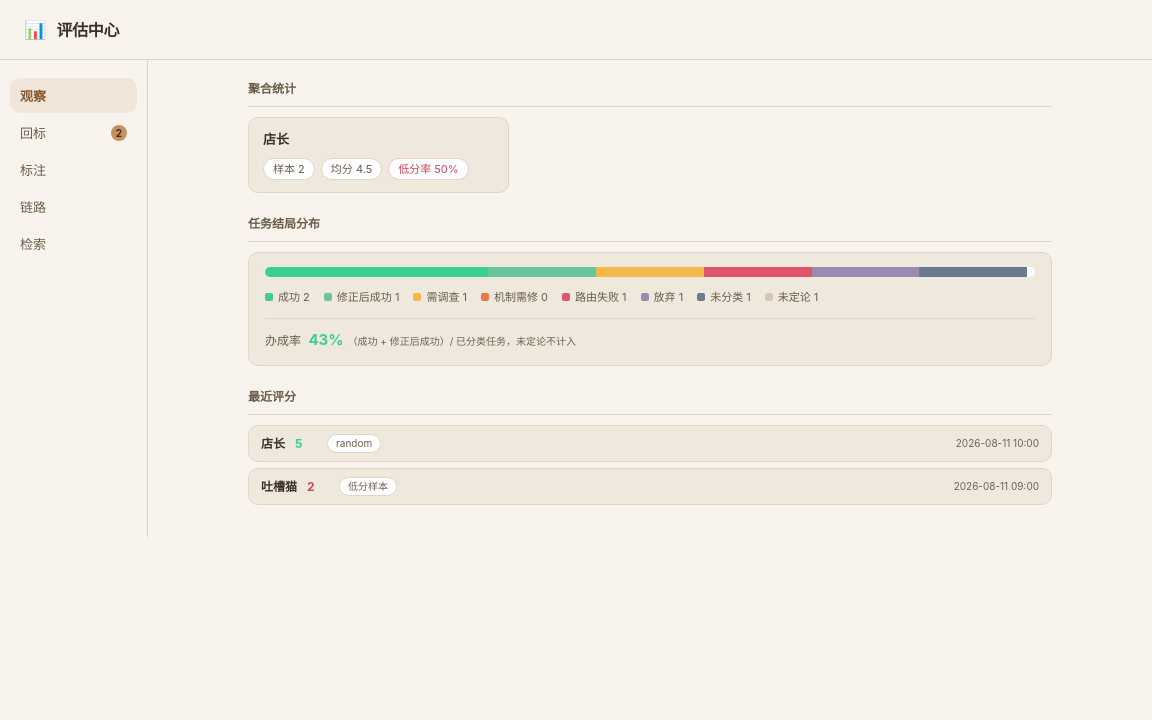
Test case: EvaluationView 挂载测试（mock useApi） › J1 标注失败 → 样本保留 + 错误提示（不白屏）
This screenshot has width=1152, height=720.
What coordinates should you click on to do the following:
click the button "标注"
I would click on:
 (74, 170)
Its box is [10,152,137,187].
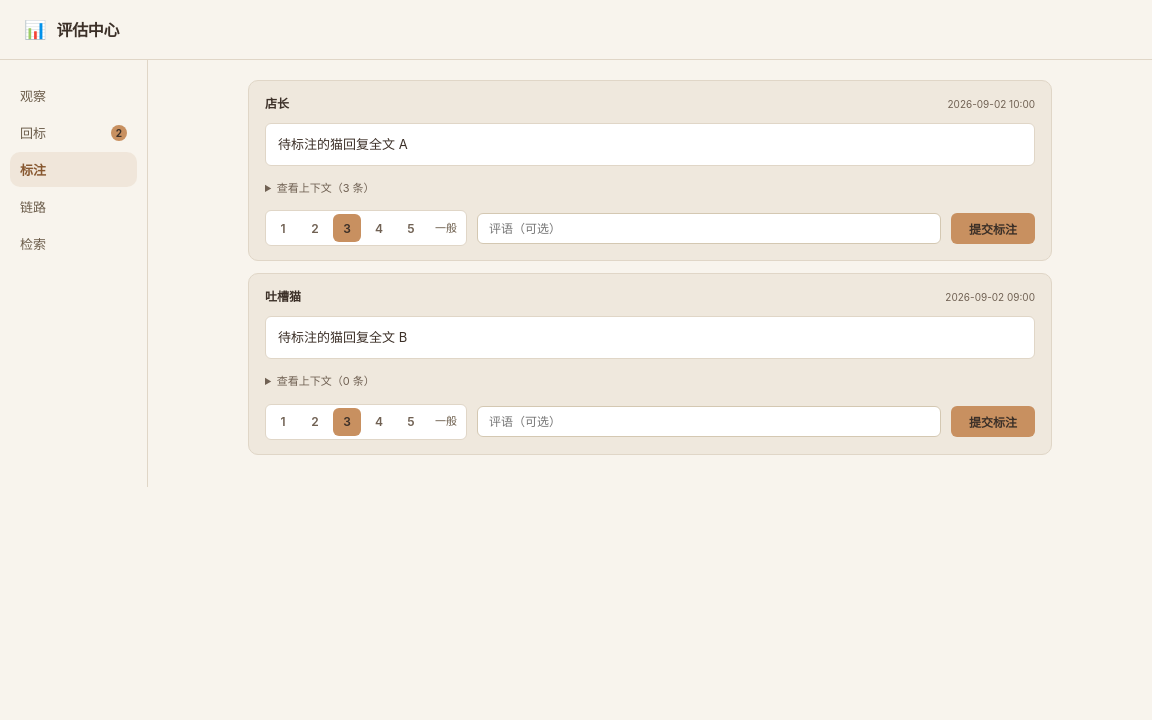
What coordinates should you click on to do the following:
click the button with class "btn-submit" below "2026-09-02 10:00"
I would click on:
 (993, 228)
Its box is [951,213,1035,244].
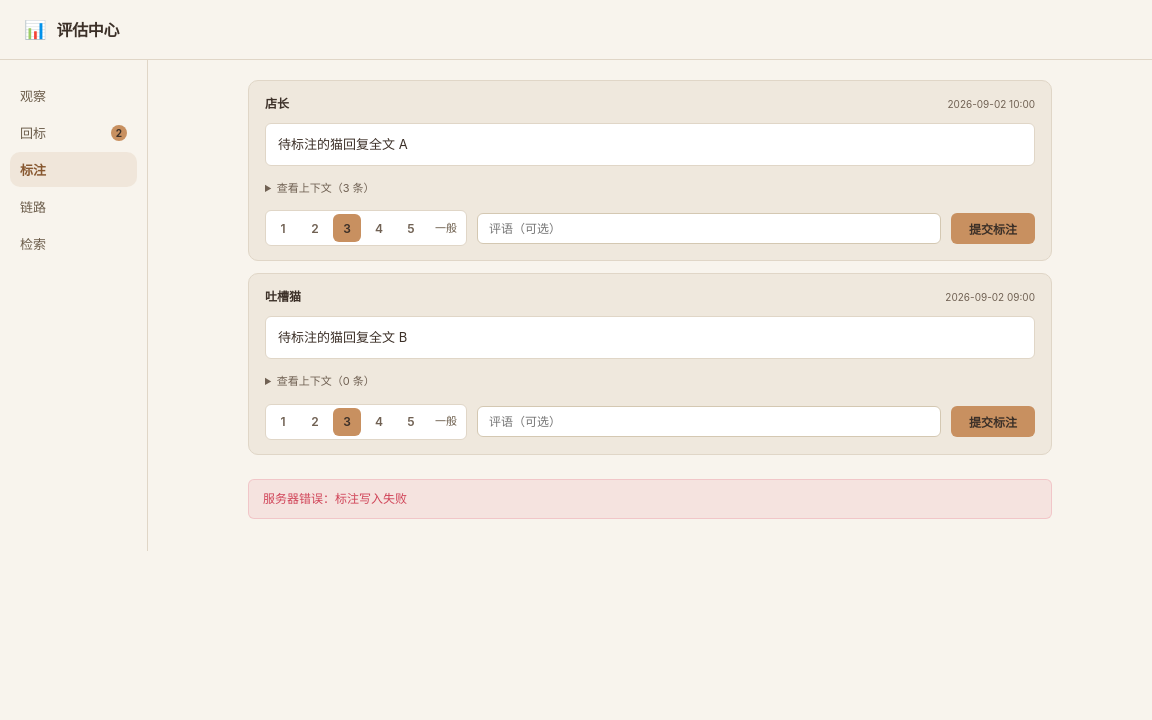
Expected: the text "待标注的猫回复全文 A" is shown, [265,123,1035,166]
Expected: the text "标注写入失败" is shown, [263,491,407,506]
